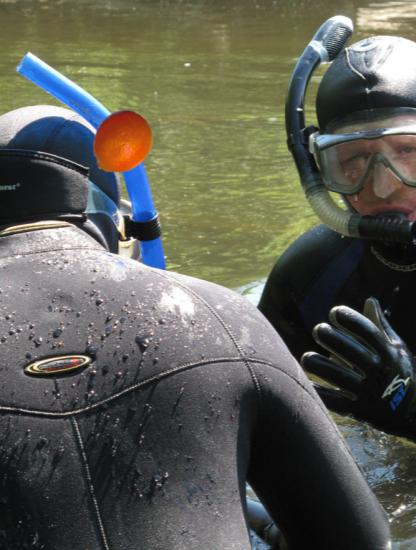Tangelo: (87, 109, 155, 177)
